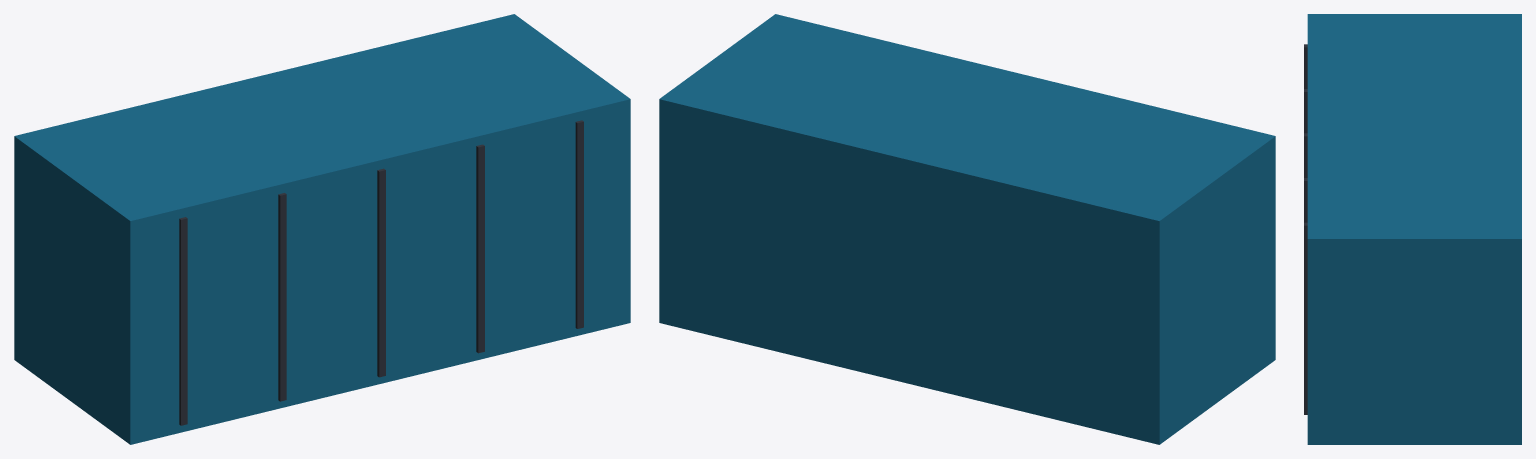
The model's file is container_closed_blue.glb.
3 views of the same model, side by side, from view 1: azimuth 30°, elevation 25°; view 2: azimuth 150°, elevation 25°; view 3: azimuth 270°, elevation 25° (orthographic). The views are drawn at different scales.
Visible parts, largest first — view 1: model; view 2: model; view 3: model.
Boxes of the visible parts, x1,y1,x2,y2 form: model: (14, 14, 630, 444); model: (659, 14, 1275, 444); model: (1304, 14, 1521, 444).
Bounding box in the file's own units: 6.06 × 2.59 × 2.48.
